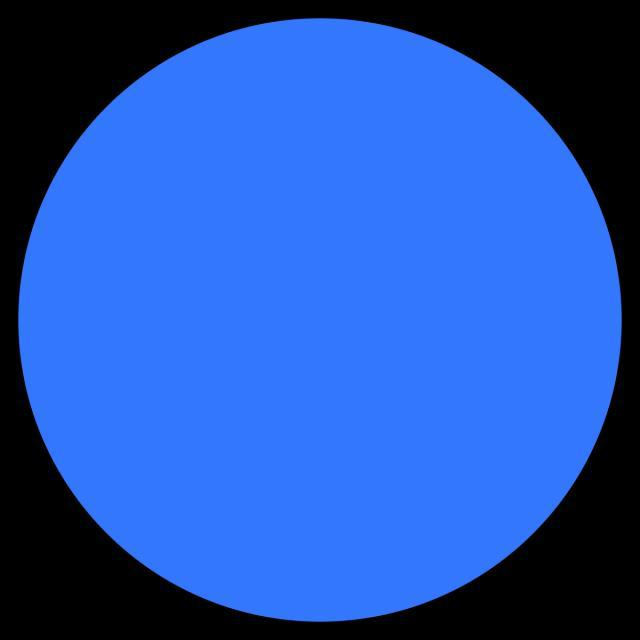blue circle: (5, 2, 638, 638)
